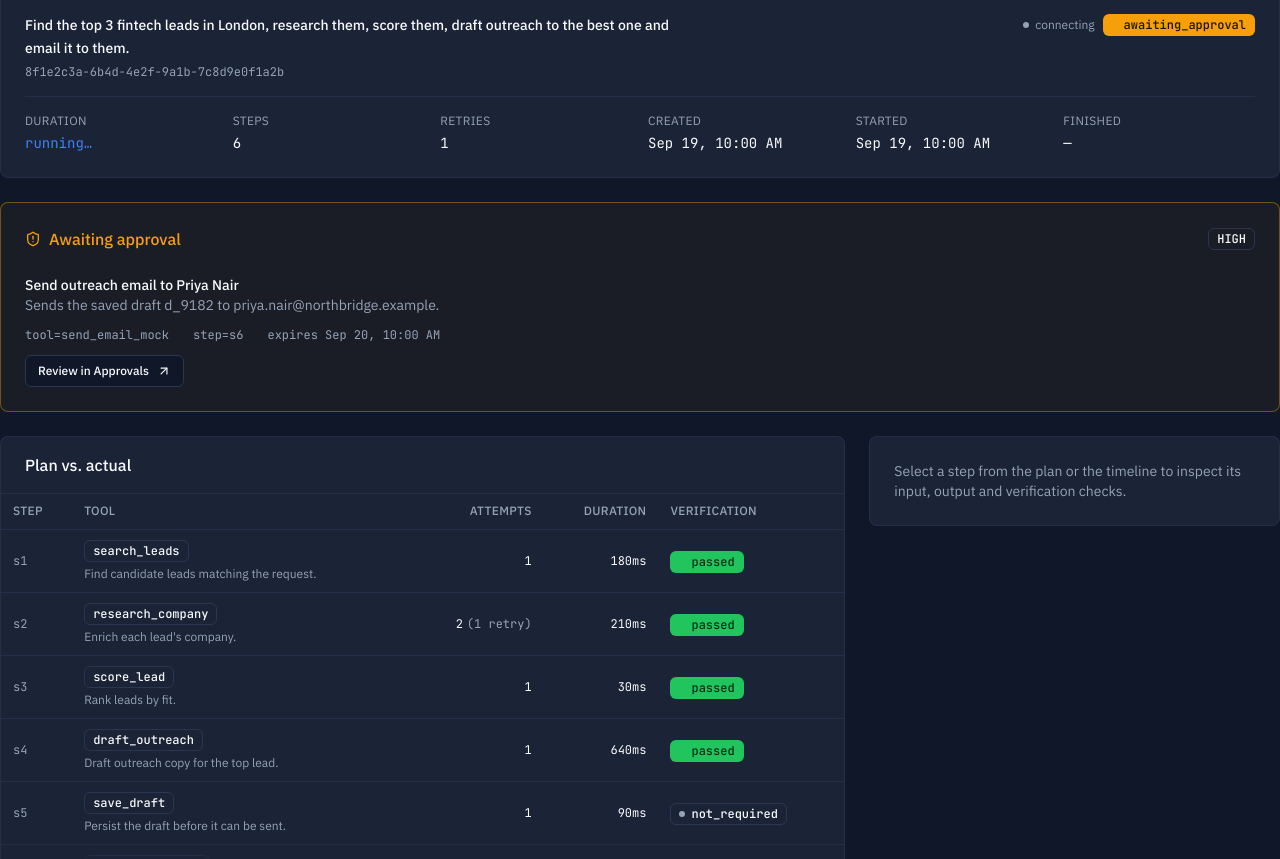
Test: RunDetailView › opens the step inspector with input, output and verification checks on selection
Expected: the heading "Plan vs. actual" is shown, 25,454 -> 131,474
Click the text "s2" at coordinates (20, 624), box 1,592 -> 72,656
(page scrolled)
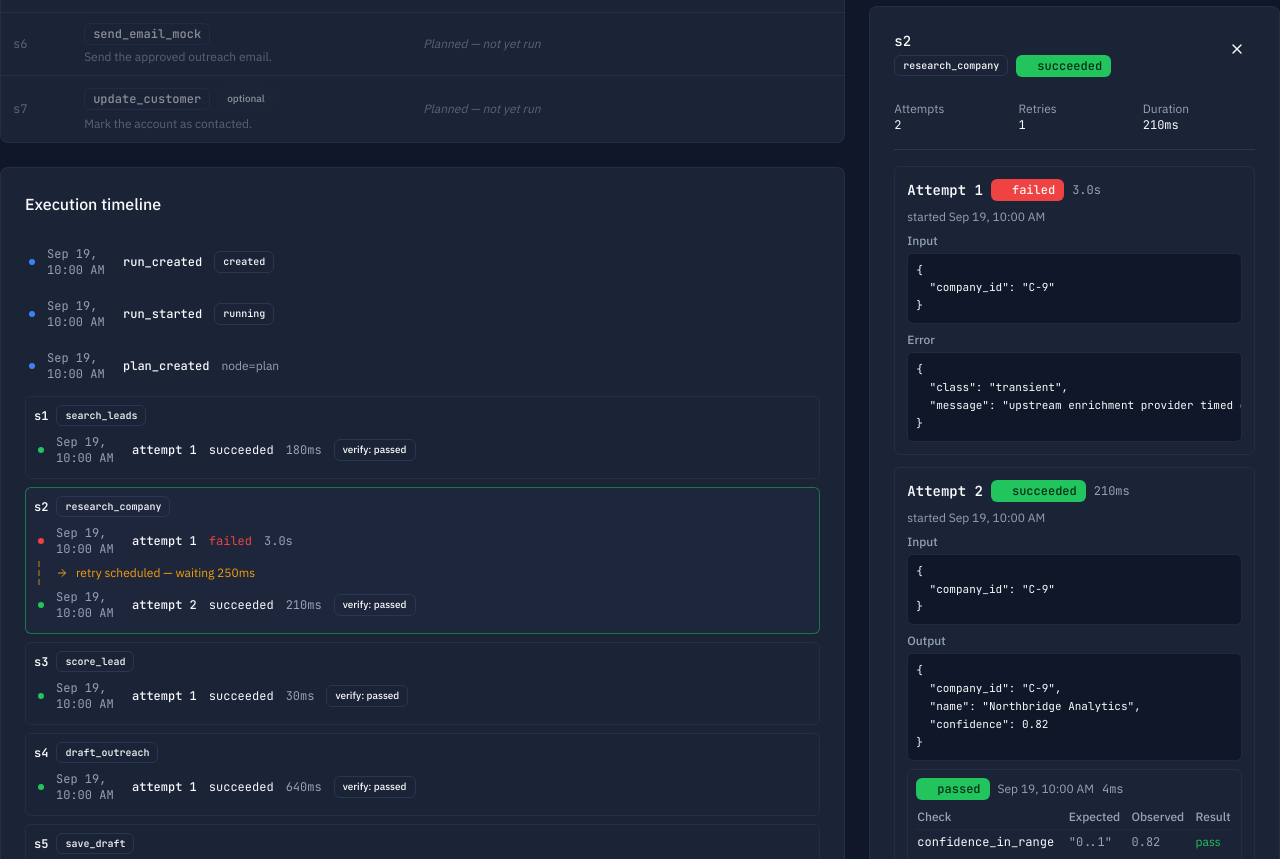
Expected: the text "Attempt 1" is shown, 907,179 -> 983,199
Expected: the text "Attempt 2" is shown, 907,480 -> 983,500
Expected: the text "{ \"company_id\": \"C-9\" }" is shown 3 times, 907,252 -> 1242,324; 907,553 -> 1242,625; 907,653 -> 1242,760
